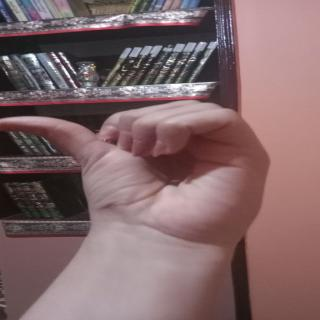WAW: (6, 99, 287, 236)
